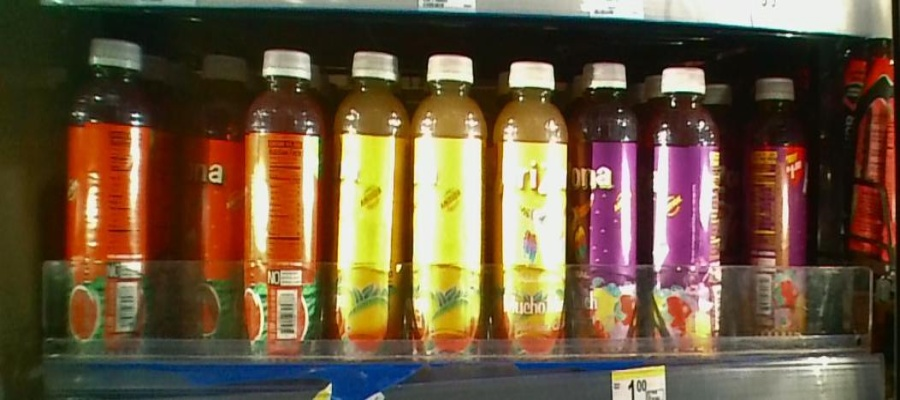bottle: (66, 42, 154, 351), (329, 49, 413, 362), (244, 42, 325, 361), (643, 47, 723, 361), (412, 45, 490, 357), (493, 57, 568, 358), (569, 55, 638, 356), (175, 44, 241, 341), (743, 66, 810, 355)
